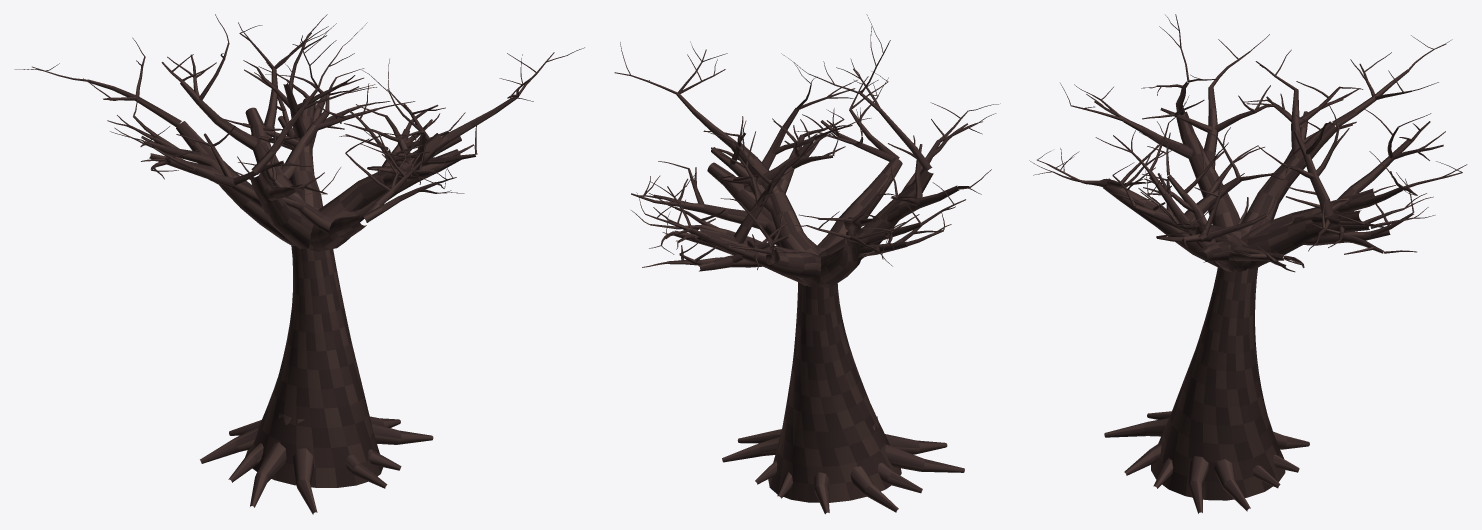
Rendered from holy_tree3.glb.
3 renders of one model, left to right at view 1: azimuth 30°, elevation 25°; view 2: azimuth 150°, elevation 25°; view 3: azimuth 270°, elevation 25°, orthographic. The views are drawn at different scales.
Parts seen in each view (by area): view 1: holy_tree3; view 2: holy_tree3; view 3: holy_tree3.
Part boxes in pixels (<box>): holy_tree3: <box>14,14,584,514</box>; holy_tree3: <box>614,14,1000,514</box>; holy_tree3: <box>1029,14,1467,513</box>.
Size of the model in its own units: 28 by 29.17 by 25.44.
1 material, 1 textured.
